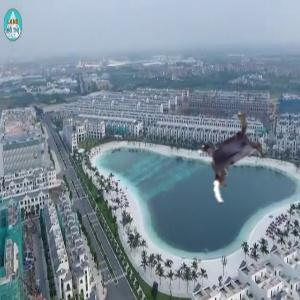drone: (187, 110, 280, 203)
